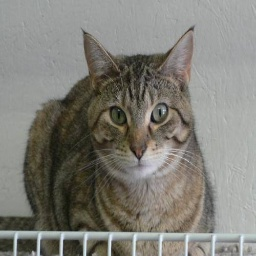cat: (26, 26, 216, 256)
